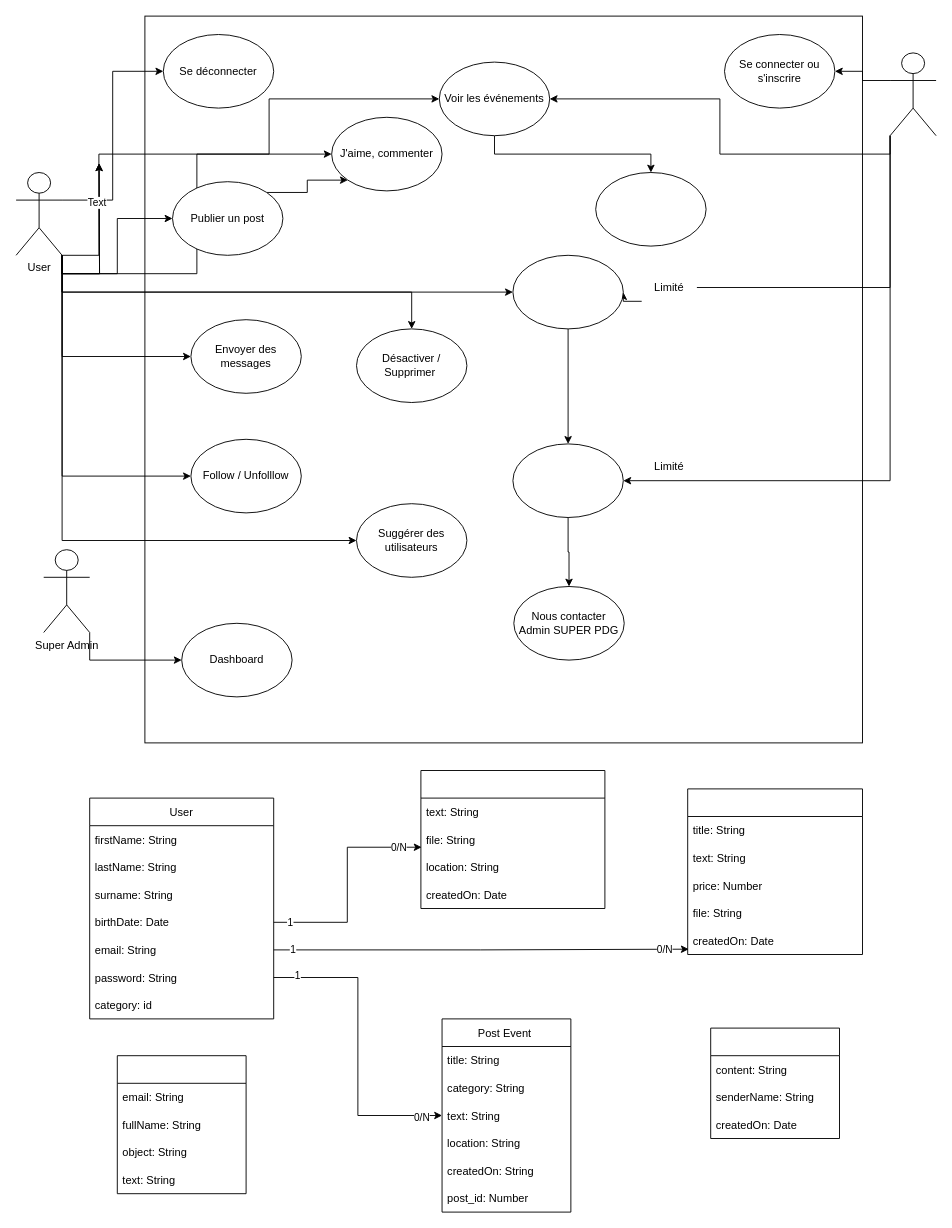
Some shapes in this 952 by 1228 pixel diagram are drawn without their labels. The box of each missing label's shape, as (x1, y1, x2, y2) in pixels:
Contact Admin: (116, 1055, 246, 1194)
Course Post: (687, 788, 862, 954)
Fil d'actualité: (512, 254, 623, 329)
Just Listen: (512, 443, 623, 518)
Message: (710, 1027, 840, 1138)
Post: (420, 770, 605, 908)
Visitor: (889, 52, 936, 136)
Voir la carte des événements: (595, 172, 706, 246)
